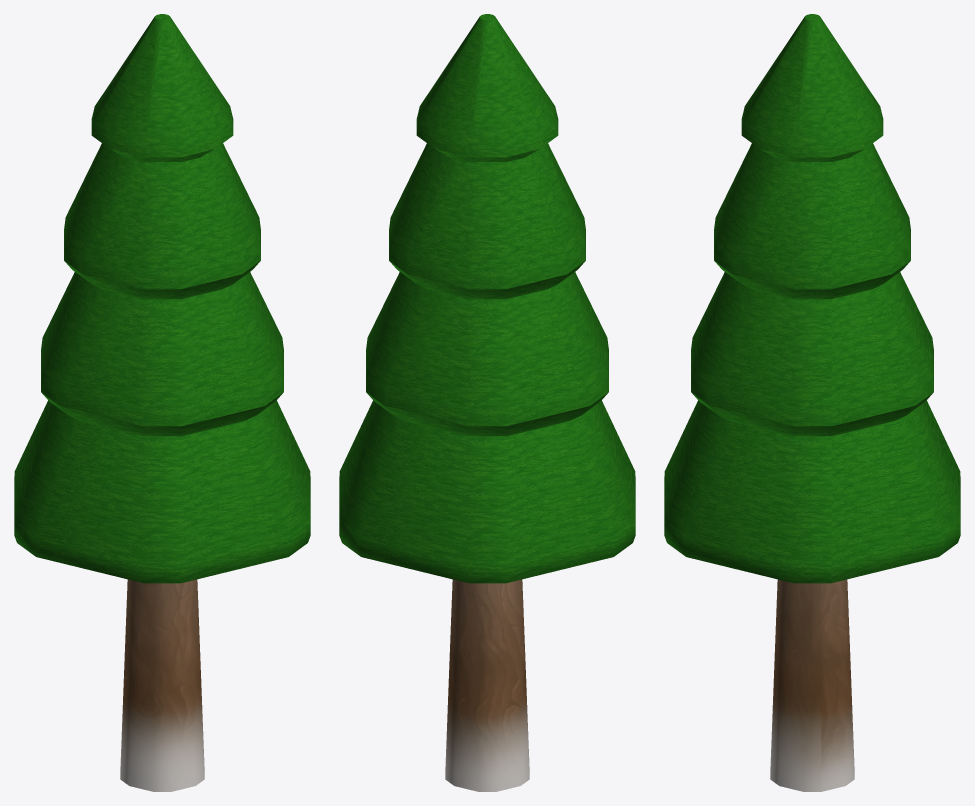
Rendered from Tree01_LL.FBX.
3 renders of one model, left to right at view 1: azimuth 30°, elevation 25°; view 2: azimuth 150°, elevation 25°; view 3: azimuth 270°, elevation 25°, orthographic.
Visible parts, largest first — view 1: Cylinder002; view 2: Cylinder002; view 3: Cylinder002.
Part boxes in pixels (bbox=[...]): Cylinder002: bbox=[14, 14, 310, 791]; Cylinder002: bbox=[339, 14, 635, 791]; Cylinder002: bbox=[664, 14, 960, 791].
Size of the model in its own units: 149 by 388 by 138.
